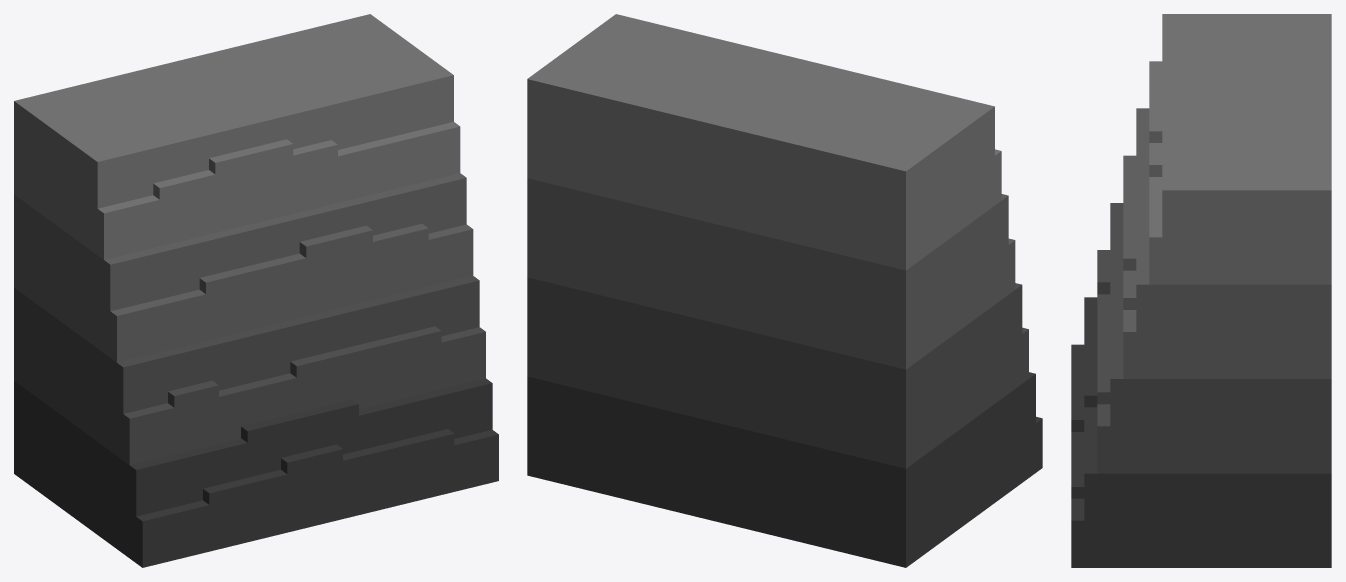
The model's file is mountain-side-2.gltf.
The picture shows the model from 3 angles, left to right: view 1: azimuth 30°, elevation 25°; view 2: azimuth 150°, elevation 25°; view 3: azimuth 270°, elevation 25°; orthographic projection. The views are drawn at different scales.
Visible parts, largest first — view 1: mountain-side-2; view 2: mountain-side-2; view 3: mountain-side-2.
Part boxes in pixels (box(x1,y1,x2,y2)): mountain-side-2: box(14, 14, 498, 567); mountain-side-2: box(527, 14, 1042, 567); mountain-side-2: box(1071, 14, 1331, 567).
Size of the model in its own units: 3.2 by 3.2 by 2.
Materials: 1 (1 with a texture image).
